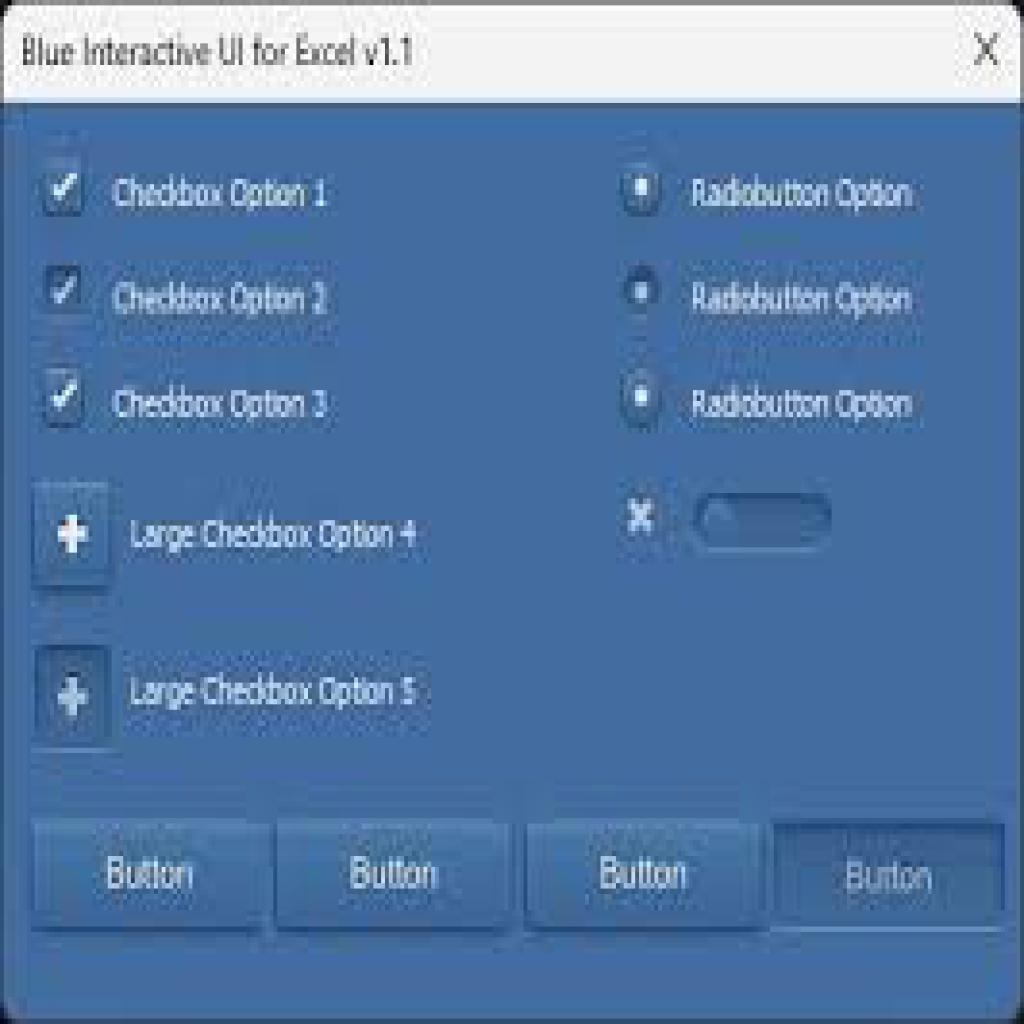button: (31, 816, 266, 931), (274, 821, 511, 932), (776, 817, 1009, 928), (526, 826, 768, 932)
checkbox: (43, 169, 88, 226), (43, 264, 92, 316), (41, 369, 83, 425)
icon: (55, 511, 93, 560), (57, 674, 92, 723)
radio: (617, 358, 672, 436), (616, 153, 670, 231), (617, 259, 670, 324)
switch: (687, 483, 838, 552)
